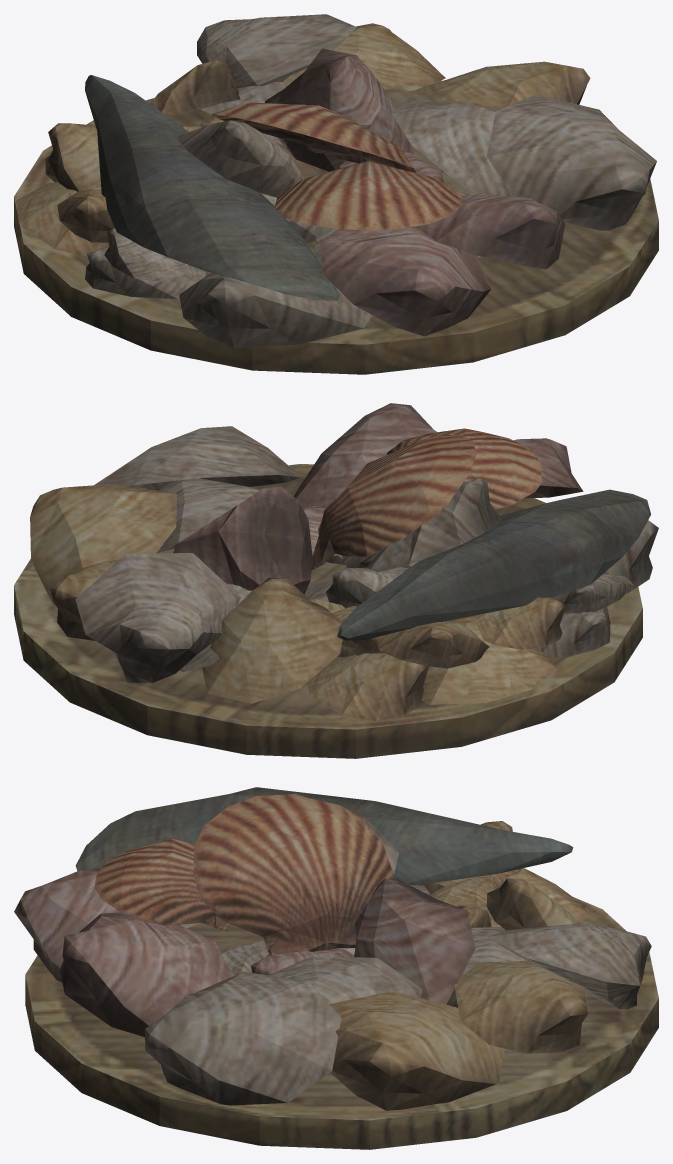
Rendered from bg_lut_mawport_storeprop11_sm_artree.FBX.
The picture shows the model from 3 angles, top to bottom: view 1: azimuth 30°, elevation 25°; view 2: azimuth 150°, elevation 25°; view 3: azimuth 270°, elevation 25°; orthographic projection. The views are drawn at different scales.
Parts seen in each view (by area): view 1: bg_lut_mawport_storeprop11_sm_artree; view 2: bg_lut_mawport_storeprop11_sm_artree; view 3: bg_lut_mawport_storeprop11_sm_artree.
Boxes of the visible parts, x1=… form: bg_lut_mawport_storeprop11_sm_artree: x1=14, y1=14, x2=658, y2=374; bg_lut_mawport_storeprop11_sm_artree: x1=14, y1=403, x2=658, y2=758; bg_lut_mawport_storeprop11_sm_artree: x1=14, y1=787, x2=658, y2=1149.
Bounding box in the file's own units: 54.9 × 16.06 × 55.87.
